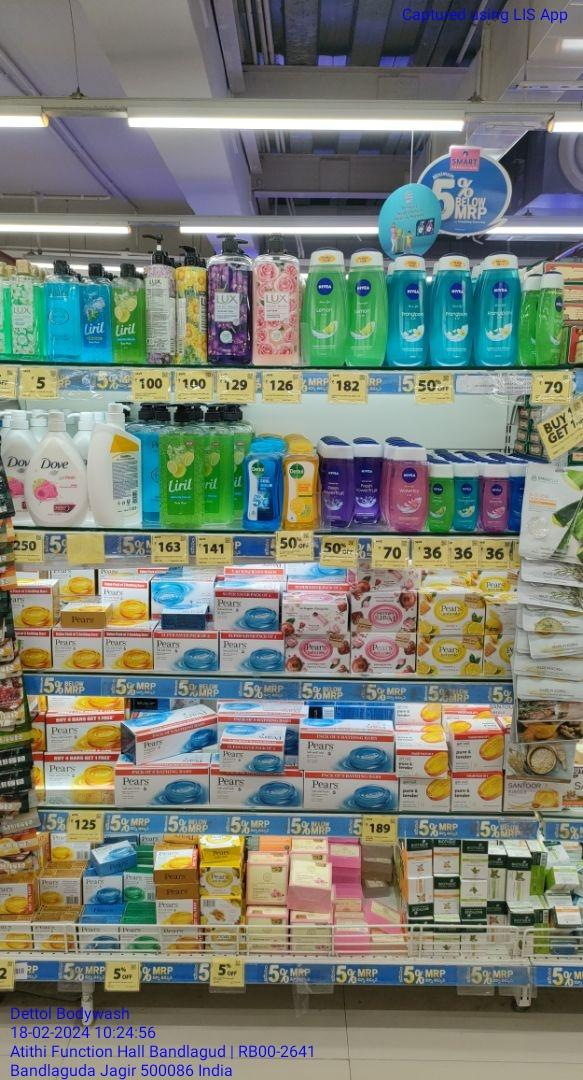Dettol_Bodywash_Cool: (244, 440, 281, 532)
Dettol_Bodywash_Refresh: (283, 439, 319, 532)
Liril_Cooling_Mint_Body_Wash_250ML: (83, 259, 113, 363)
Liril_Lime_and_Tea_Tree_Oil_Body_Wash_250ML: (114, 261, 146, 363)
Lux_Body_Wash_Skin_Detox_Freesia_Scent_and_Alove_Vera_245ML: (7, 259, 42, 360)
Nivea_Shower_Gel_Frangipani_and_Oil_250ML: (388, 253, 431, 369), (431, 250, 473, 365), (476, 252, 518, 367)
Nivea_Shower_Gel_Fresh_Powerfruit_250ML: (323, 443, 354, 525), (355, 442, 380, 525)
Nivea_Shower_Gel_Lemon_and_Oil_250ML: (303, 248, 349, 367), (352, 249, 386, 369)
Nivea_Shower_Gel_Waterlily_and_Oil_250ML: (391, 445, 428, 534)
Pears_Pure_Glycerin_and_Mint_Extracts_Body_Wash_250ML: (44, 259, 81, 361)
